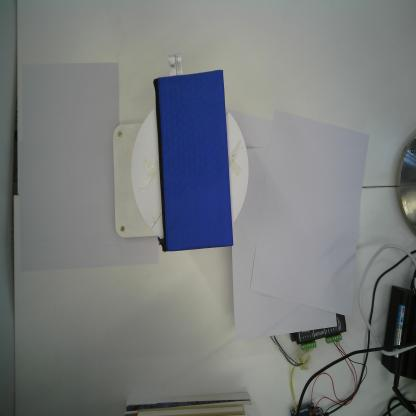Stationery: (152, 69, 234, 252)
